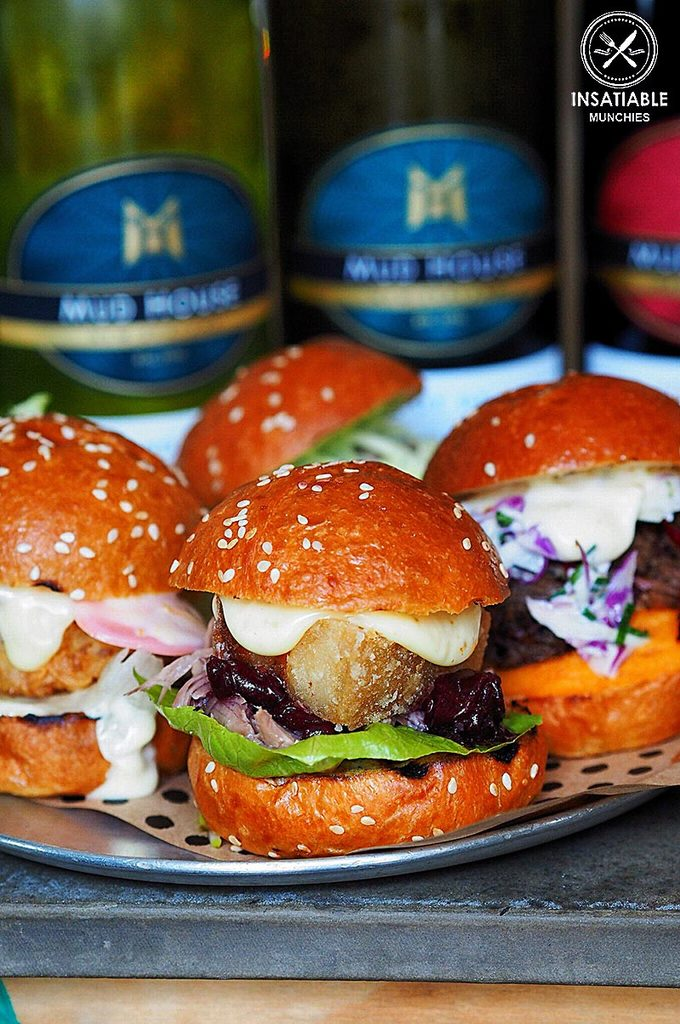Hamburger: (127, 459, 547, 856), (425, 373, 679, 759), (0, 412, 210, 800), (184, 339, 420, 511)
